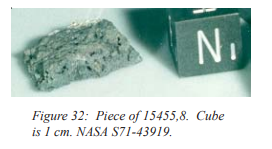Breccia: (31, 17, 142, 83)
